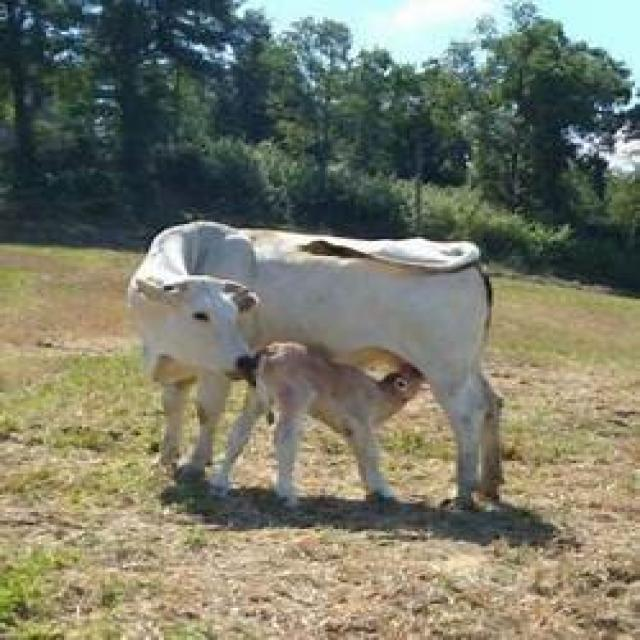cow: (125, 222, 502, 512), (225, 343, 415, 506)
